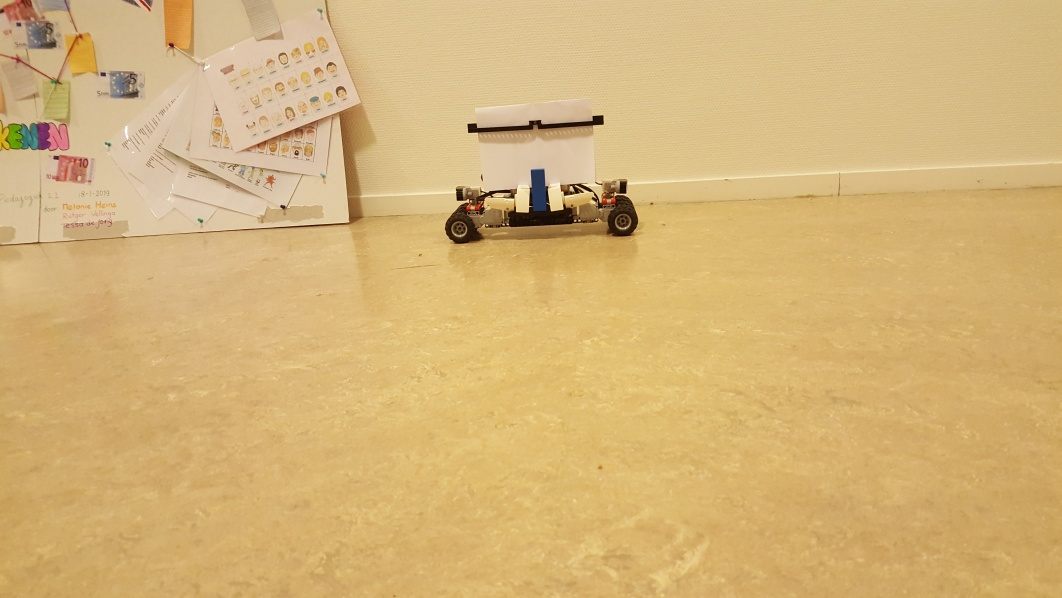car: (445, 99, 640, 243)
